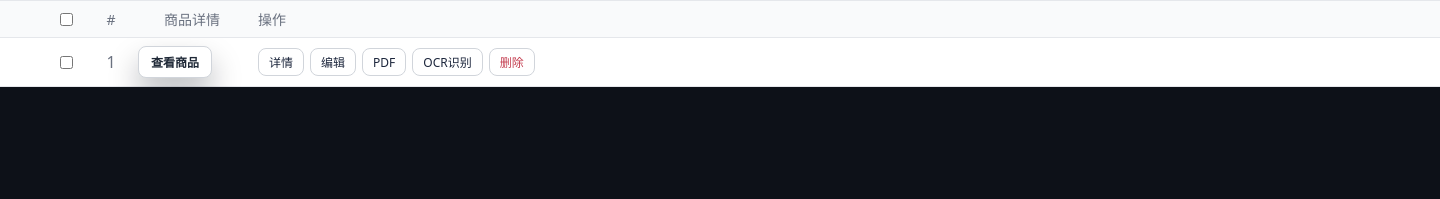
WorkspaceTable › does not truncate submenu text when the current column can still contain it
What coordinates should you click on to do the following:
click the button "查看商品"
I would click on:
 (175, 62)
Its box is top-left (138, 46), bottom-right (212, 78).
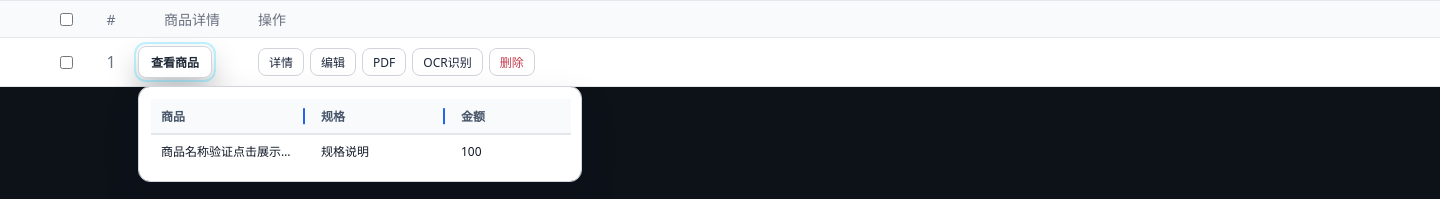
Now the text "商品名称验证点击展示内容" is shown, box top-left (161, 143), bottom-right (301, 161)
